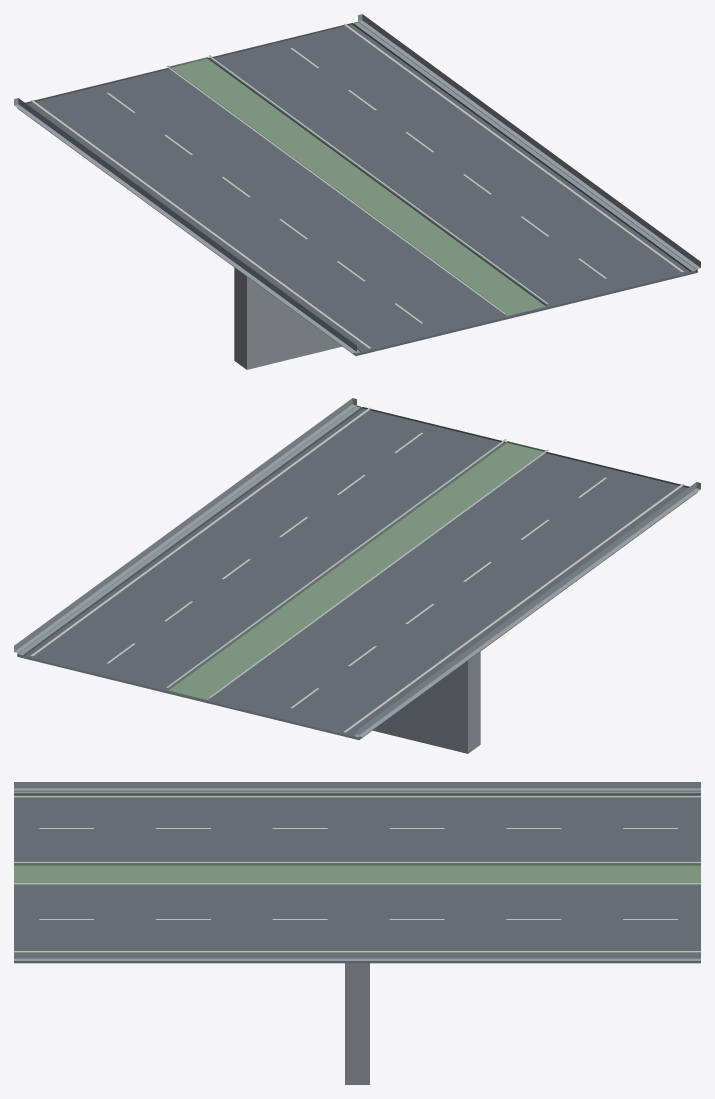
File: bridge_highway.glb
3 views of the same model, one above another, from view 1: azimuth 30°, elevation 25°; view 2: azimuth 150°, elevation 25°; view 3: azimuth 270°, elevation 25° (orthographic).
Parts seen in each view (by area): view 1: bridge_highway_asphalt, bridge_highway_grass, bridge_highway_steel, bridge_highway_concrete, bridge_highway_white, bridge_highway_asphalt_dark, bridge_highway_curb; view 2: bridge_highway_asphalt, bridge_highway_grass, bridge_highway_steel, bridge_highway_concrete, bridge_highway_white, bridge_highway_asphalt_dark, bridge_highway_curb; view 3: bridge_highway_asphalt, bridge_highway_grass, bridge_highway_steel, bridge_highway_concrete, bridge_highway_white, bridge_highway_curb, bridge_highway_asphalt_dark.
Part boxes in pixels (x1,y1,x2,y2): bridge_highway_asphalt: [25, 23, 690, 352]; bridge_highway_grass: [169, 57, 546, 315]; bridge_highway_steel: [14, 14, 700, 352]; bridge_highway_concrete: [234, 21, 697, 369]; bridge_highway_white: [31, 23, 683, 348]; bridge_highway_asphalt_dark: [17, 22, 697, 355]; bridge_highway_curb: [166, 55, 548, 313]; bridge_highway_asphalt: [24, 407, 689, 736]; bridge_highway_grass: [168, 441, 545, 699]; bridge_highway_steel: [14, 398, 700, 736]; bridge_highway_concrete: [17, 405, 480, 753]; bridge_highway_white: [31, 407, 683, 732]; bridge_highway_asphalt_dark: [17, 406, 697, 739]; bridge_highway_curb: [166, 439, 548, 697]; bridge_highway_asphalt: [14, 793, 700, 950]; bridge_highway_grass: [14, 864, 700, 884]; bridge_highway_steel: [14, 782, 700, 960]; bridge_highway_concrete: [14, 790, 700, 1084]; bridge_highway_white: [14, 796, 700, 952]; bridge_highway_curb: [14, 861, 700, 883]; bridge_highway_asphalt_dark: [14, 961, 700, 963].
Bounding box in the file's own units: 17.83 × 7.65 × 30.
